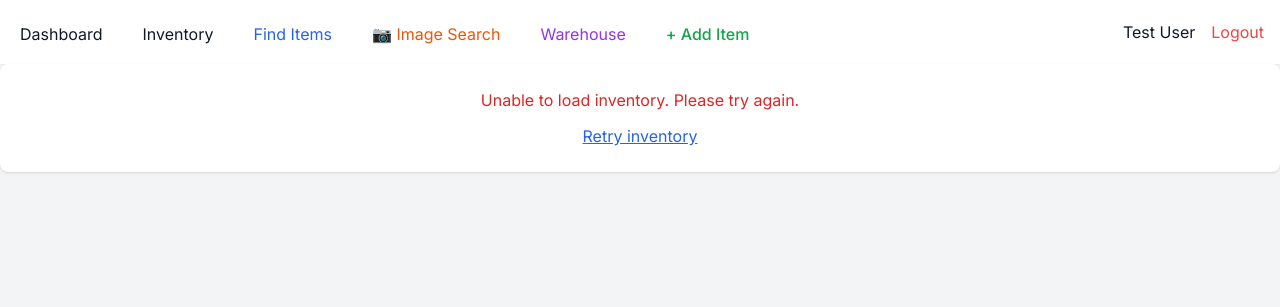
Scenario: inventory outages › find-items retries a failed inventory request
Expected: the message "Unable to load inventory. Please try again. Retry inventory" is shown, [0,64,1279,172]
Click the button "Retry inventory".
click(640, 136)  # box [582,124,697,148]
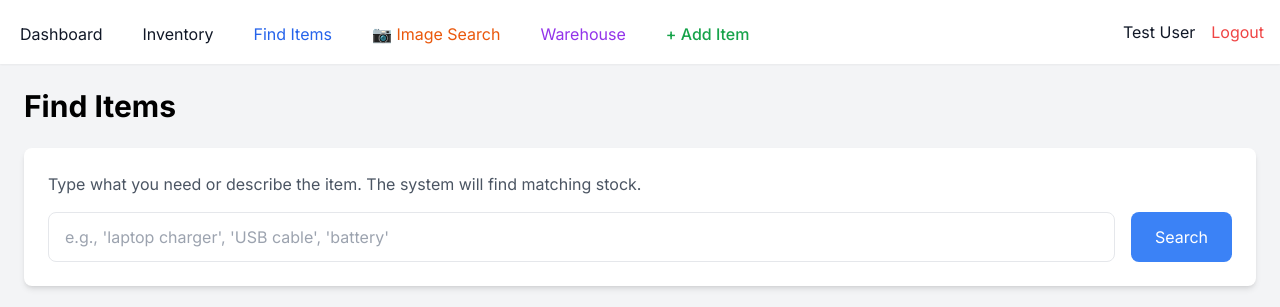
Now the heading "Find Items" is shown, box [24,88,176,124]
Now the message "Unable to load inventory. Please try again. Retry inventory" is gone
